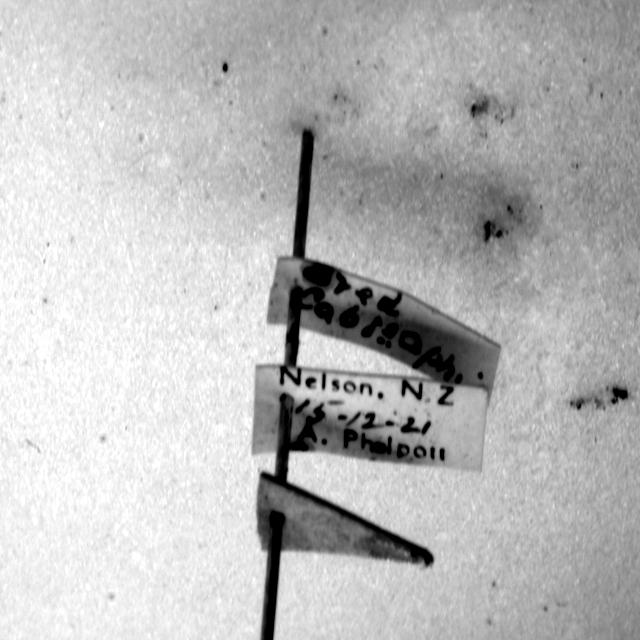hand_label: (268, 257, 500, 396)
mixed_label: (252, 366, 488, 472)
